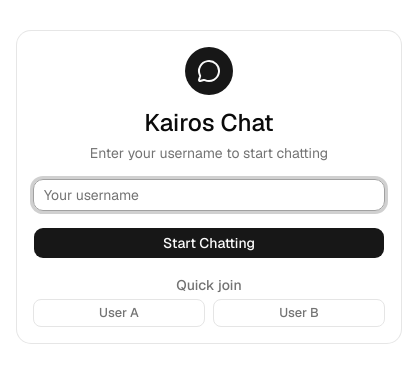
Test: LoginForm › clears error when user starts typing
The image size is (419, 375).
Click the button with test id "login-submit" at (209, 243), box [33,227,385,259]
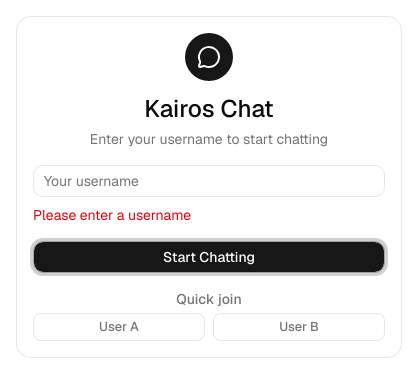
Now the text "Please enter a username" is shown, box [33,206,191,224]
Type "A" into the field with test id "username-input" at (209, 181), box [33,165,385,197]
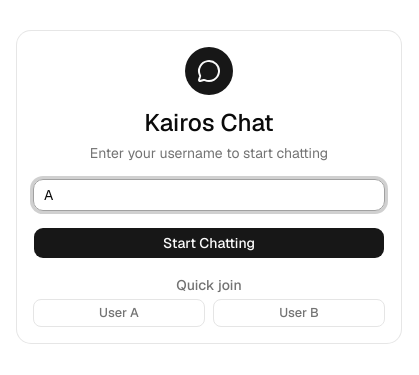
Now the text "Please enter a username" is gone
